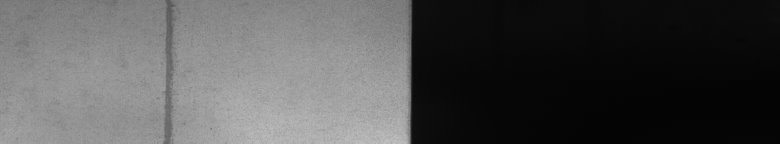hd: (157, 4, 184, 136)
